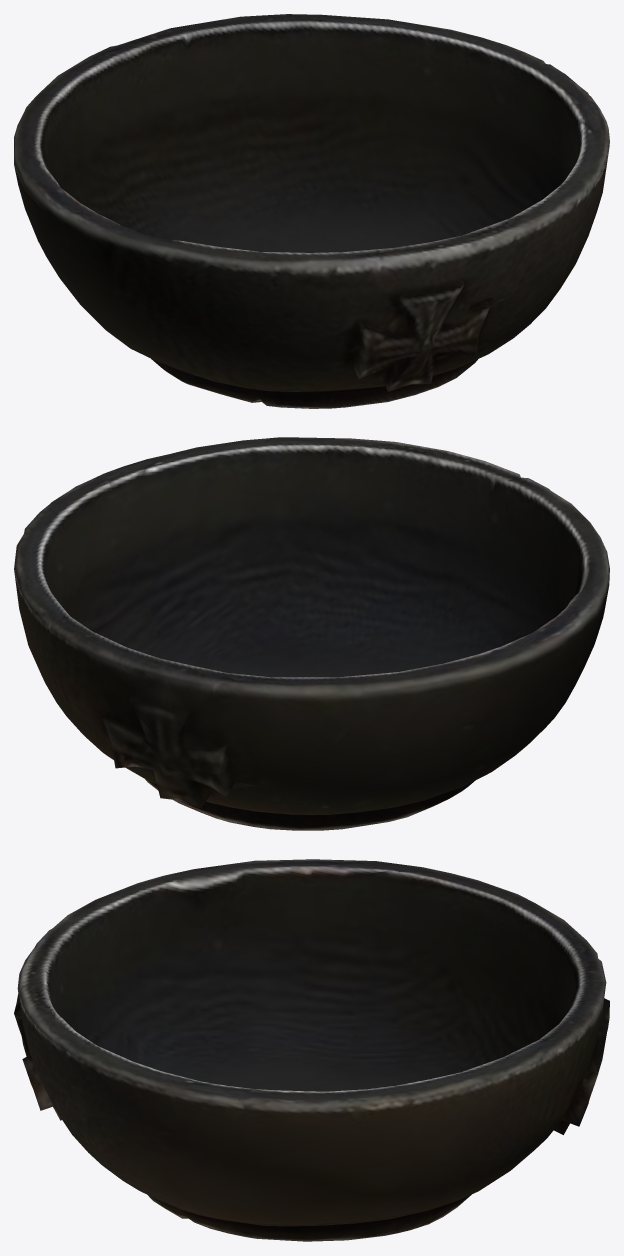
Rendered from bowl_small.fbx.
3 renders of one model, top to bottom at view 1: azimuth 30°, elevation 25°; view 2: azimuth 150°, elevation 25°; view 3: azimuth 270°, elevation 25°, orthographic. The views are drawn at different scales.
Visible parts, largest first — view 1: bowl_small; view 2: bowl_small; view 3: bowl_small.
Part boxes in pixels (box(x1,y1,x2,y2)): bowl_small: box(14, 14, 609, 408); bowl_small: box(14, 437, 609, 830); bowl_small: box(14, 859, 609, 1241).
Bounding box in the file's own units: 26.85 × 9.68 × 27.12.
Materials: 1 (1 with a texture image).
